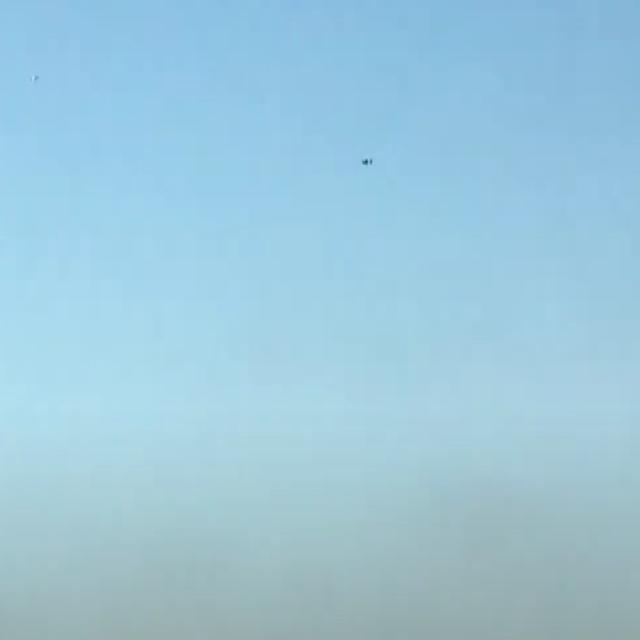iha: (364, 159, 371, 164)
